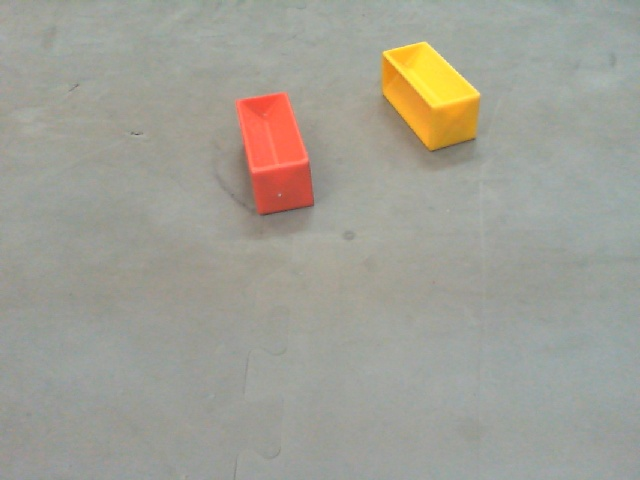RedSample: (234, 92, 315, 214)
YellowSample: (378, 40, 482, 153)
